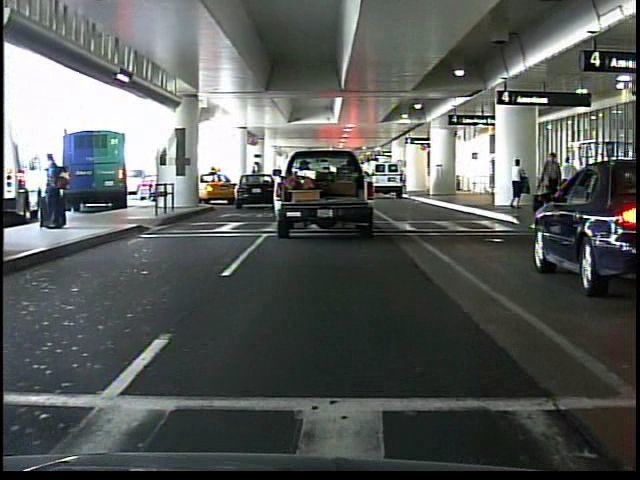person: (38, 145, 73, 237), (539, 149, 565, 217), (506, 155, 530, 211), (560, 154, 581, 213)
